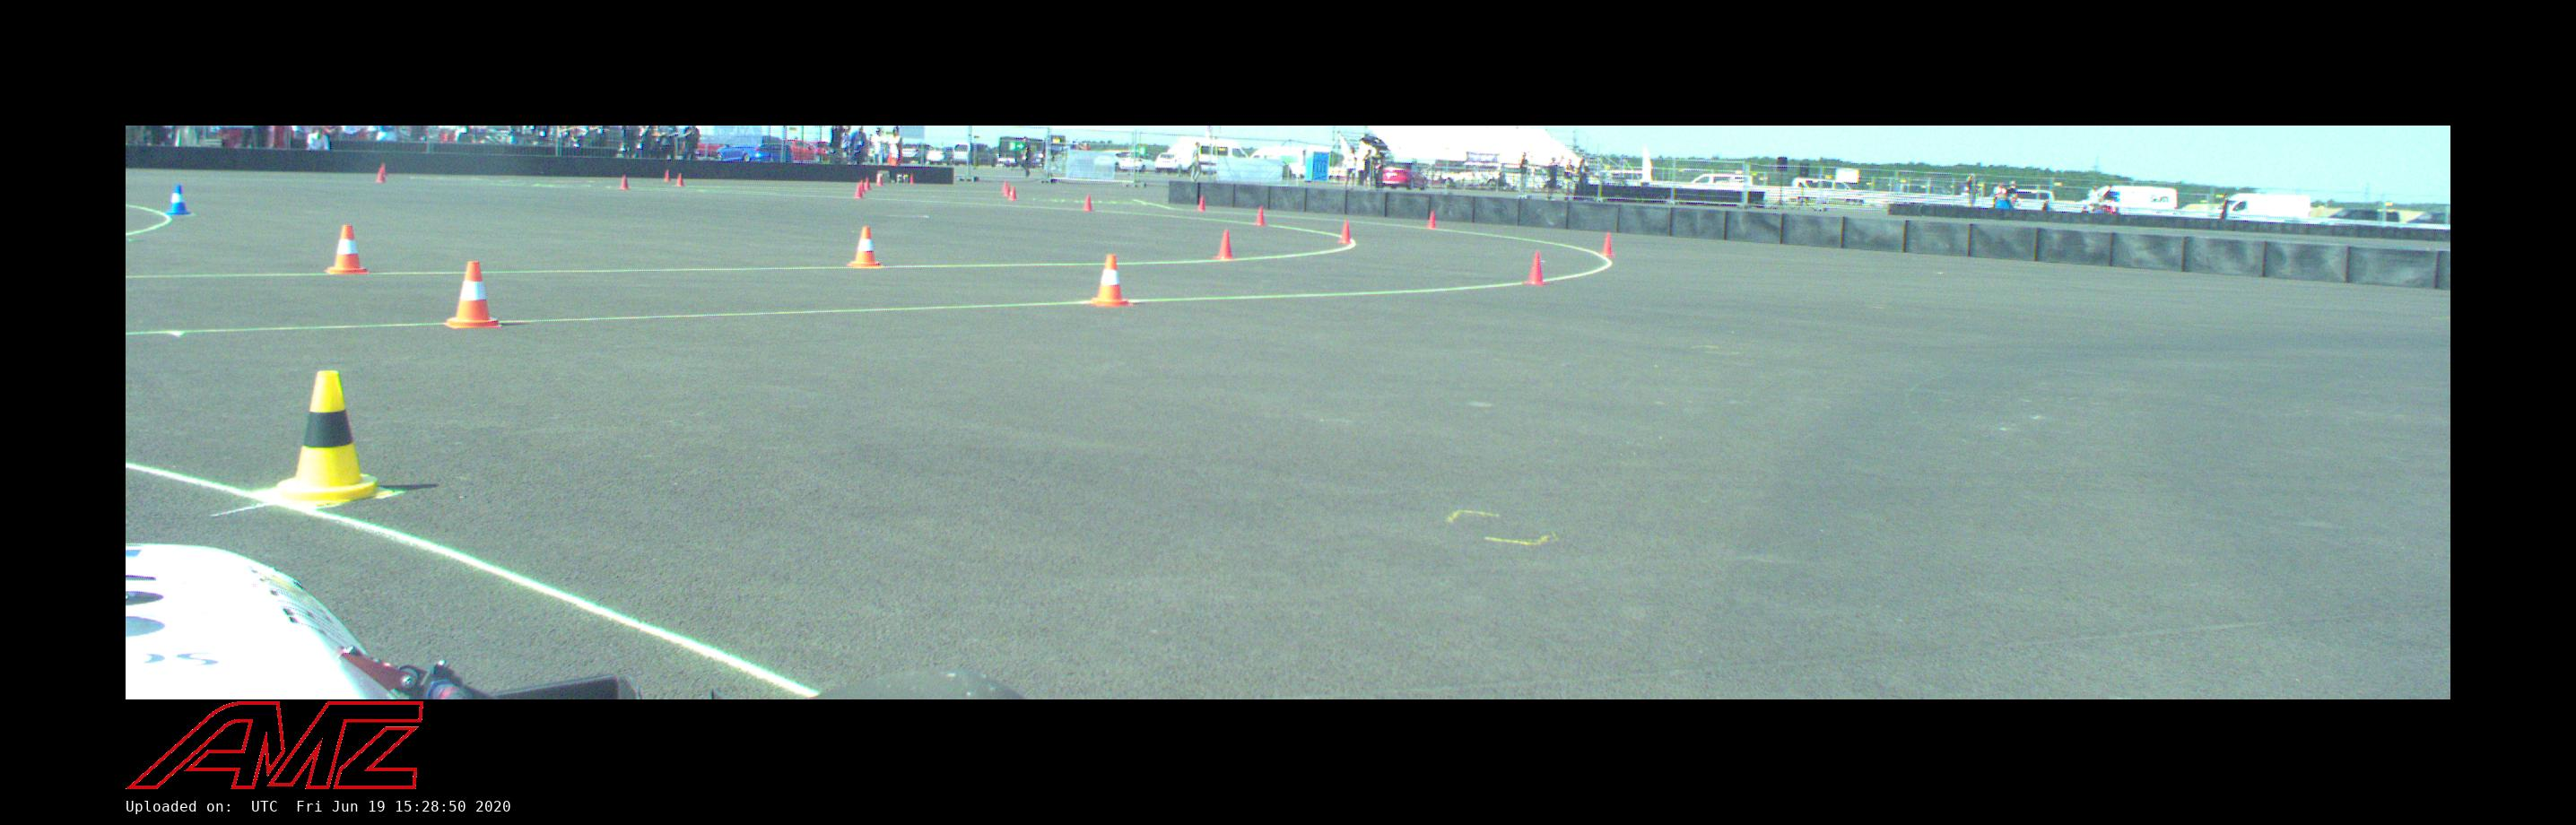blue_cone: (166, 184, 192, 215)
orange_cone: (444, 261, 503, 329), (324, 225, 370, 273), (1091, 255, 1134, 306), (846, 227, 884, 268)
yellow_cone: (263, 370, 391, 508)
